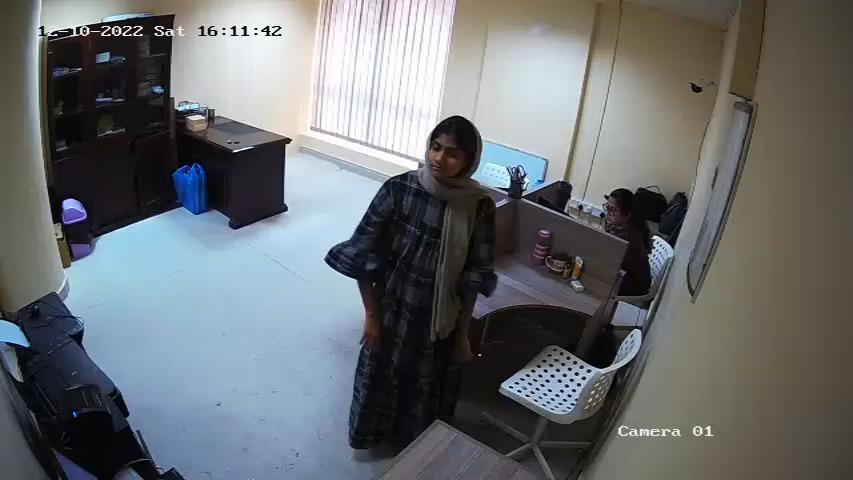no_gloves: (450, 327, 477, 373), (359, 313, 383, 353)
